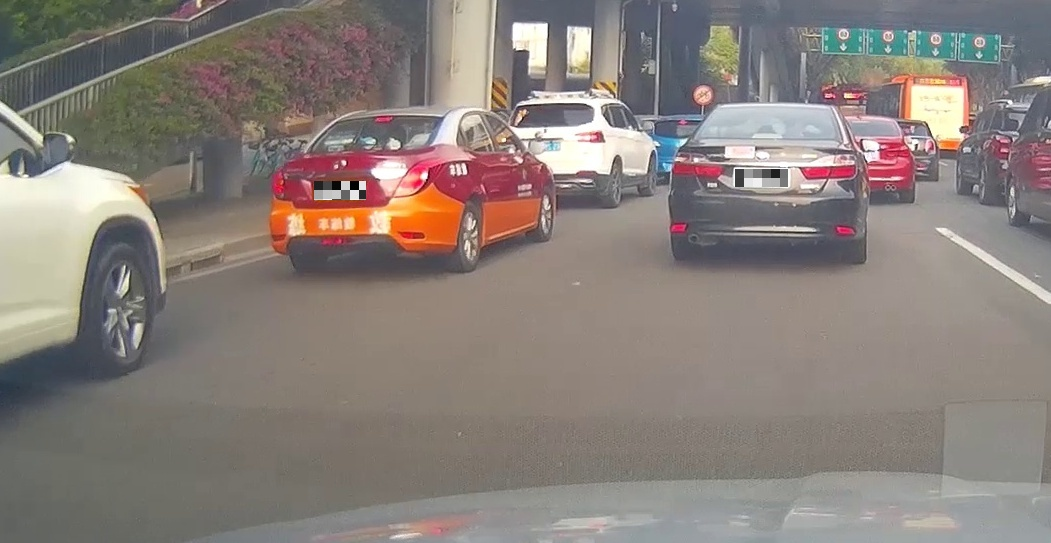L_light: (672, 152, 726, 177), (273, 168, 293, 201)
R_light: (392, 157, 448, 198), (801, 154, 857, 181)
T_light: (751, 132, 784, 139), (375, 117, 393, 122)
day-brake: (268, 106, 453, 275)
day-no: (668, 102, 870, 263)
plate_1: (314, 181, 366, 200)
plate_2: (735, 169, 788, 187)
